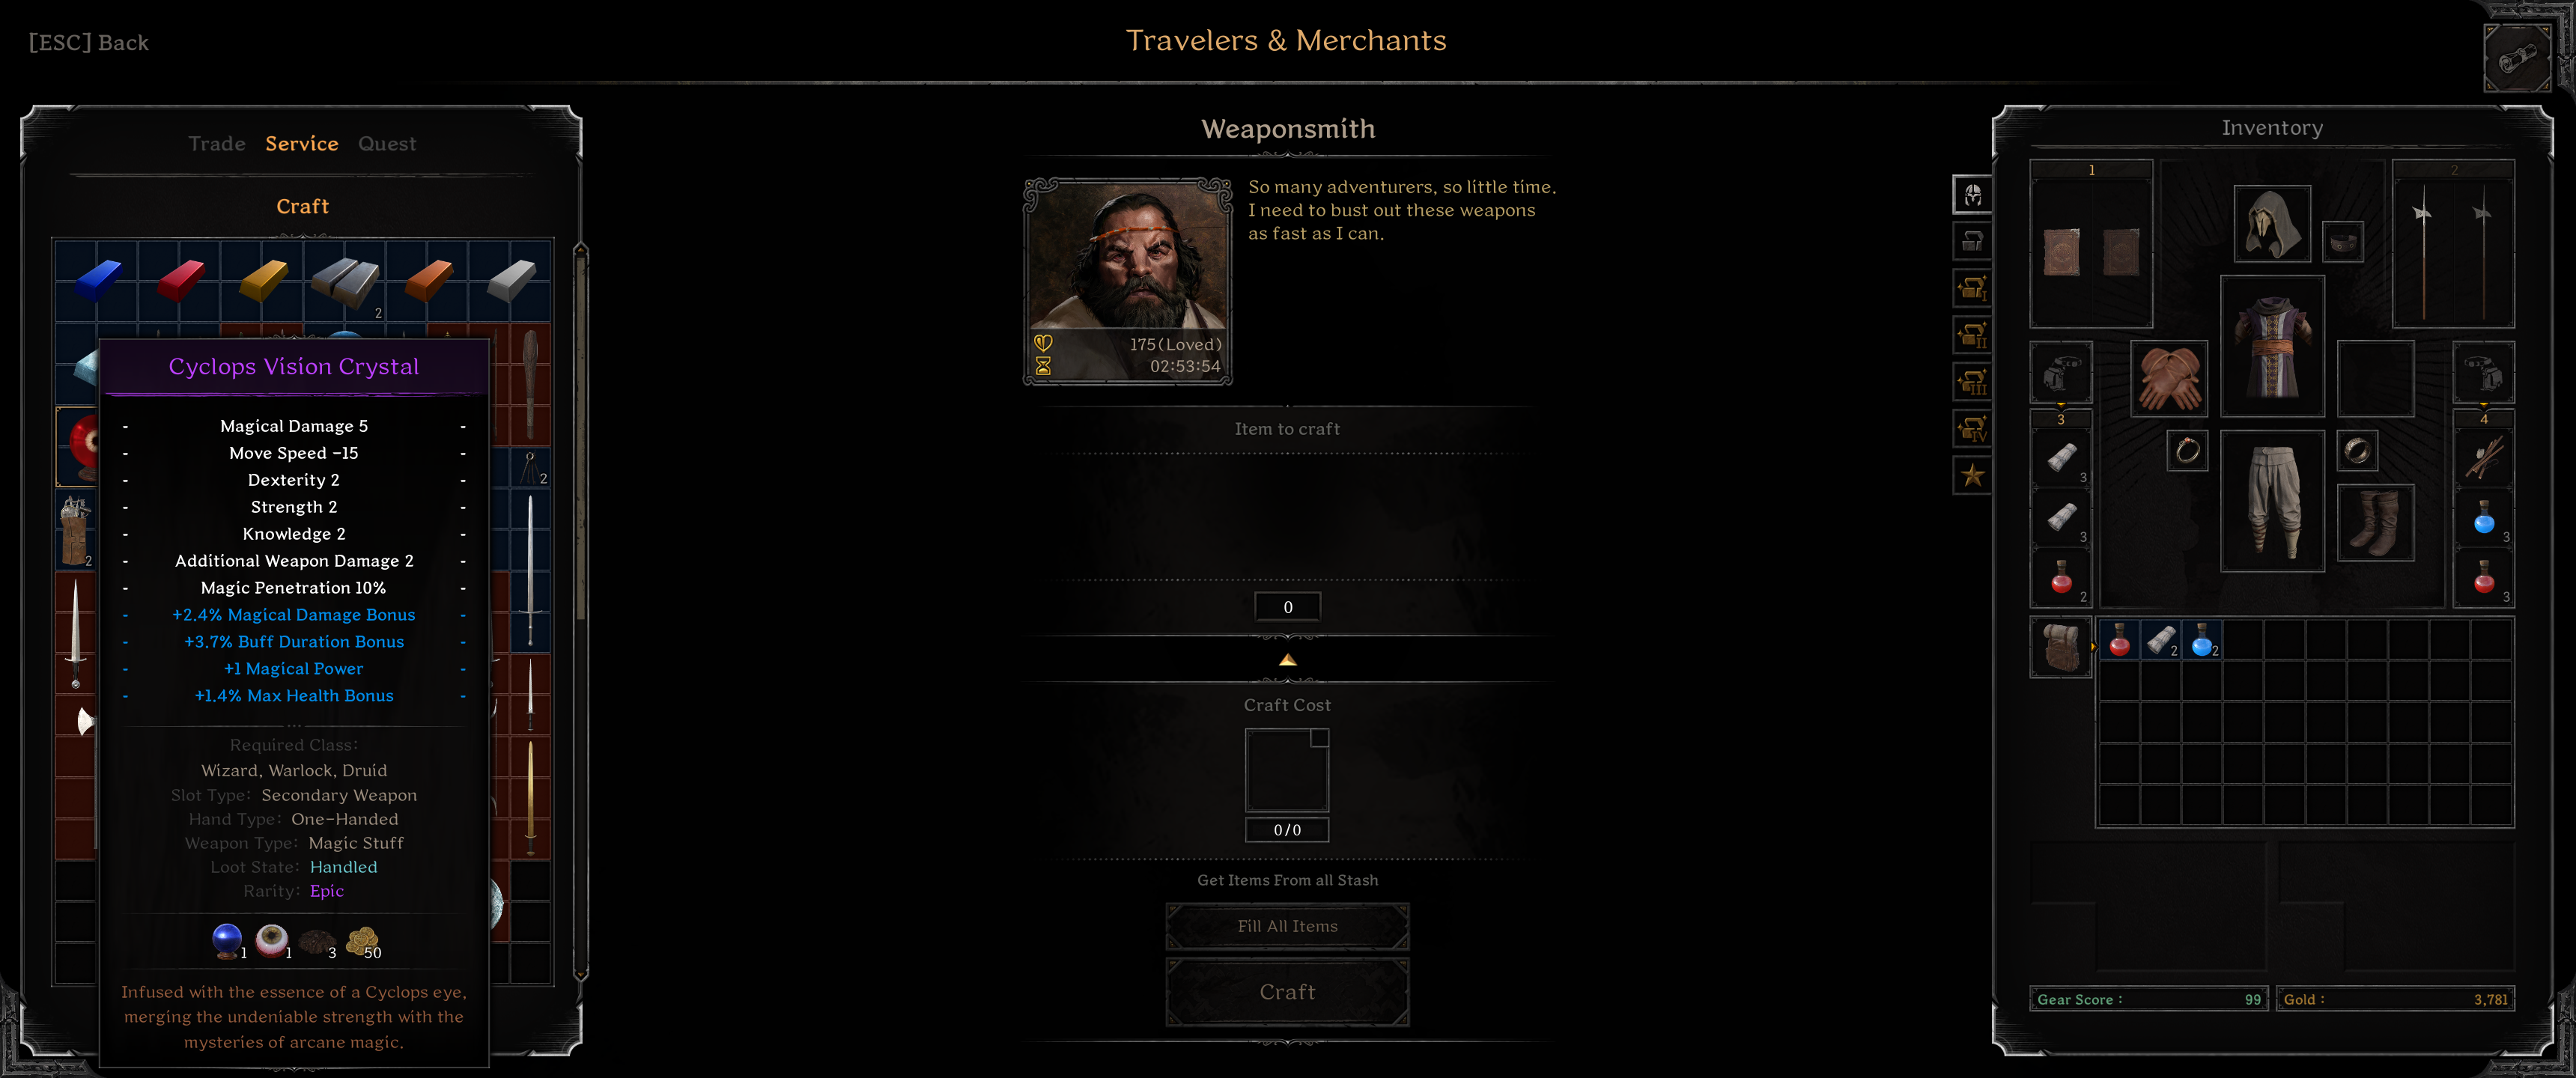Tooltip: (97, 337, 491, 1070)
